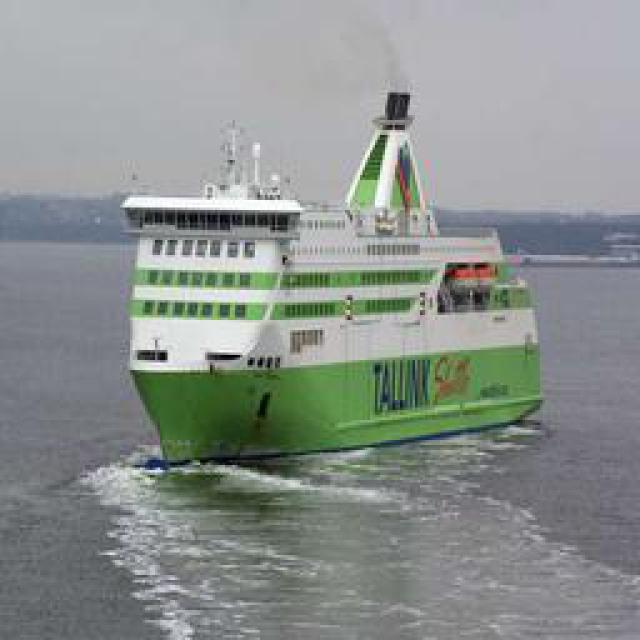Ship: (123, 87, 548, 470)
